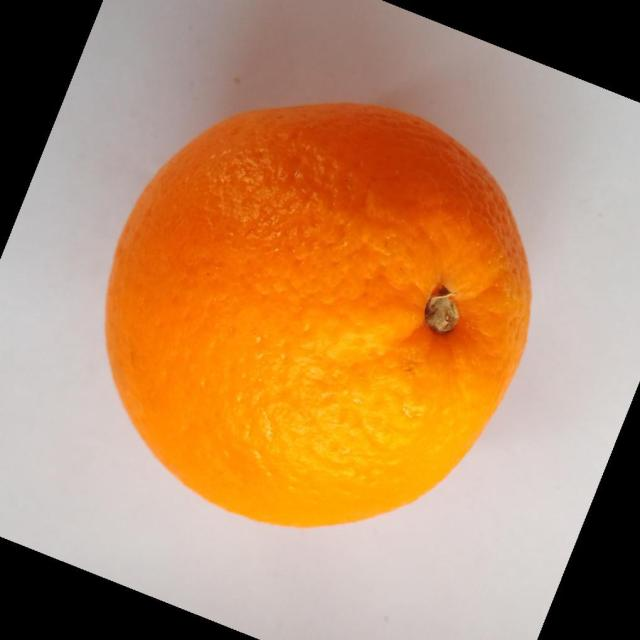fresh orange: (104, 100, 532, 528)
